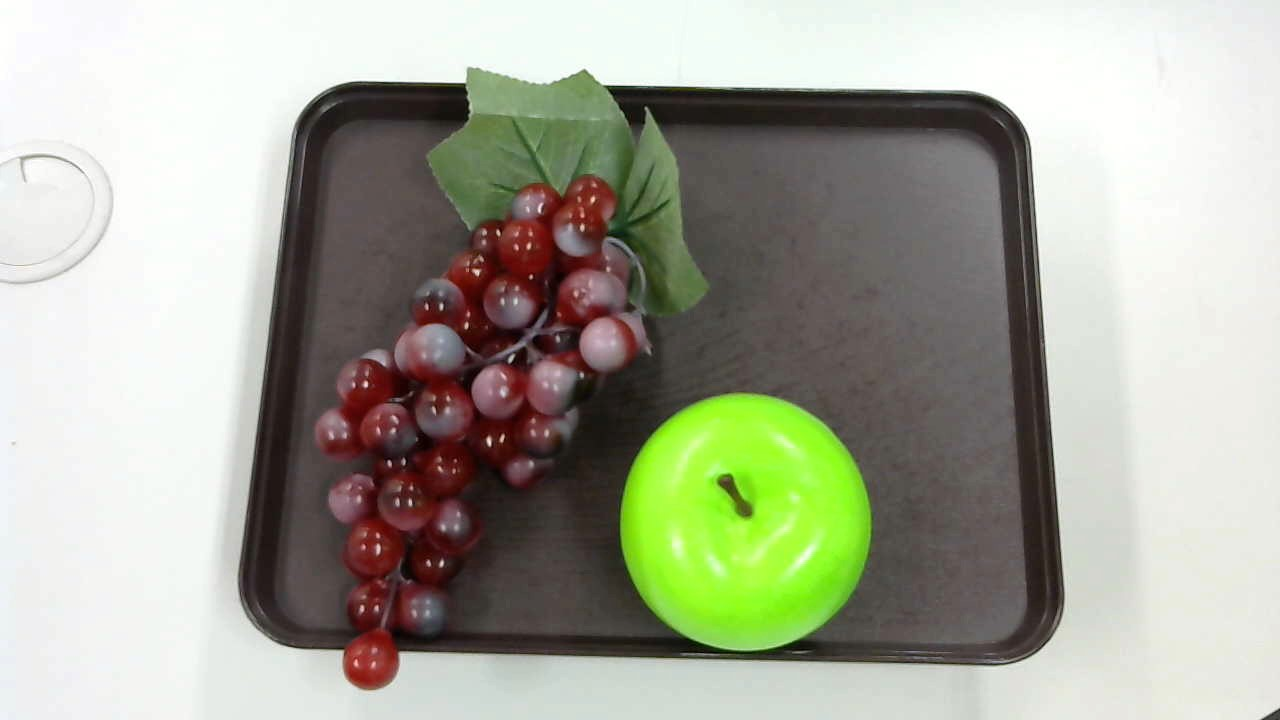grape: (315, 68, 712, 702)
green apple: (617, 390, 878, 649)
